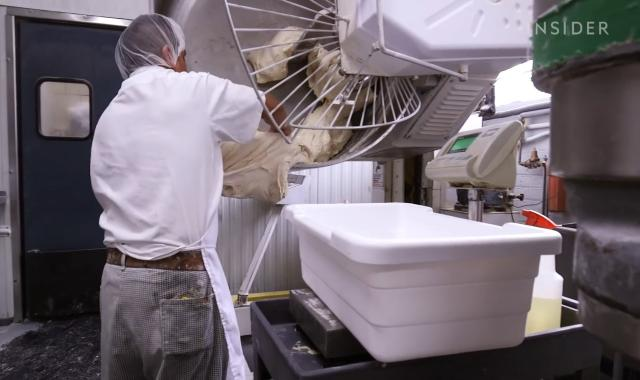hairnet: (114, 13, 186, 76)
